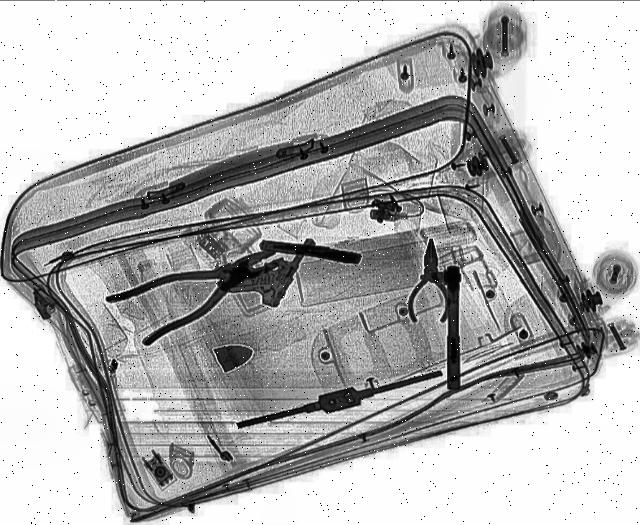Gun: (228, 223, 316, 309), (258, 236, 366, 264)
Pliers: (104, 220, 298, 346), (409, 238, 457, 322)
